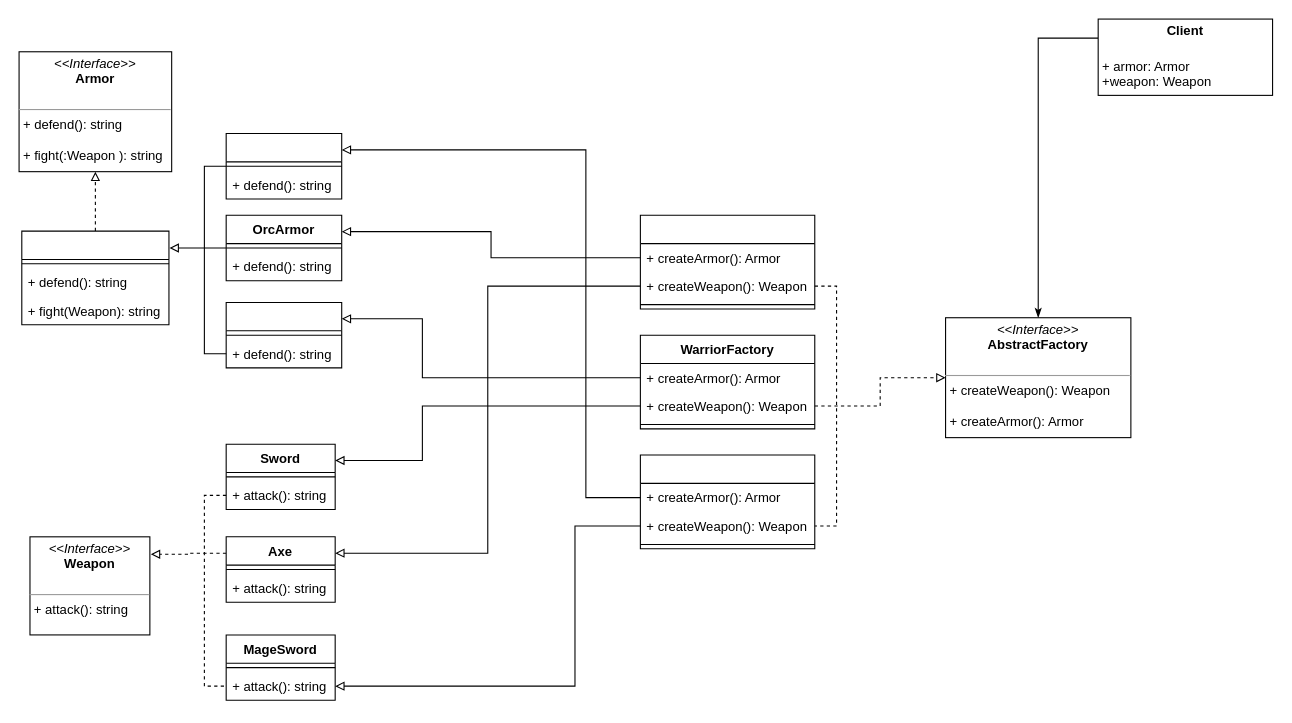
Image size: 1292x723. Some labels were removed from this diagram. The box of each missing label's shape, as (x1, y1, x2, y2) in pixels:
AbstractArmor: (21, 230, 169, 325)
BodyArmor: (225, 301, 342, 368)
Cloak: (225, 132, 342, 199)
MageFactory: (639, 454, 815, 549)
OrcFactory: (639, 214, 815, 309)
